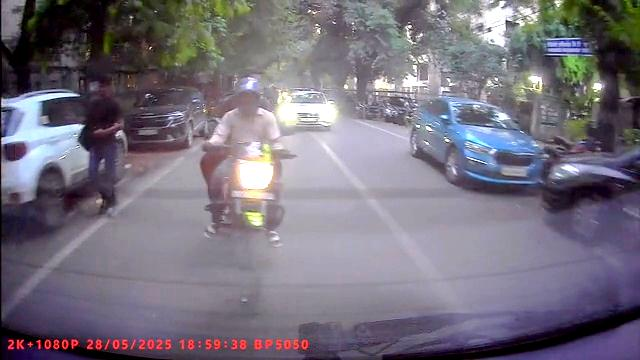motorcycle_with_helmet: (198, 73, 297, 315)
